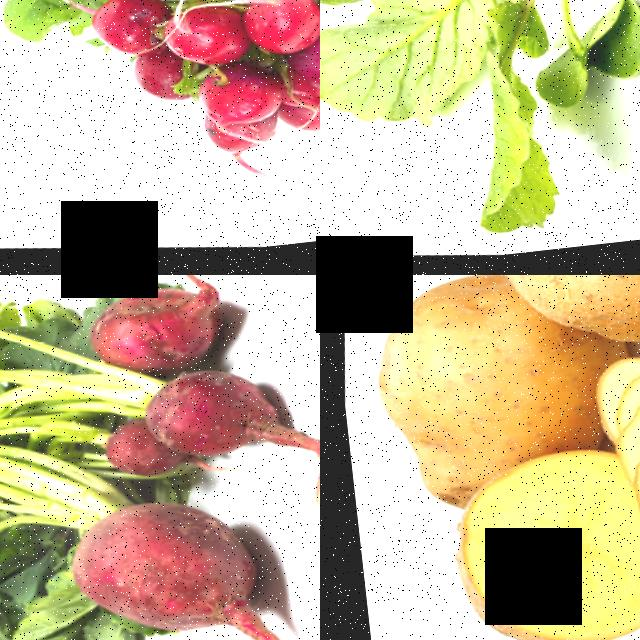potato: (421, 438, 640, 640), (350, 275, 543, 478)
radishes: (1, 275, 313, 518), (50, 0, 320, 209), (0, 459, 292, 640)
